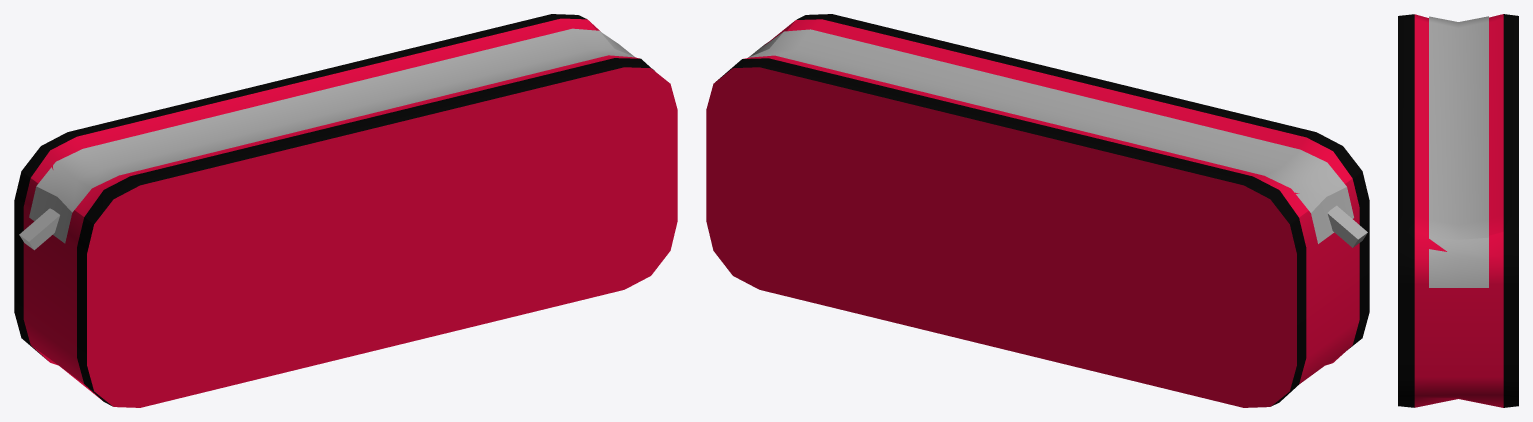
Rendered from fudebako.fbx.
3 views of the same model, side by side, from view 1: azimuth 30°, elevation 25°; view 2: azimuth 150°, elevation 25°; view 3: azimuth 270°, elevation 25° (orthographic). The views are drawn at different scales.
Parts seen in each view (by area): view 1: pCube2, pCube1, pCube3; view 2: pCube2, pCube1, pCube3; view 3: pCube2, pCube1.
Part boxes in pixels (box(x1,y1,x2,y2)): pCube2: box(14, 14, 677, 407); pCube1: box(29, 28, 654, 243); pCube3: box(19, 208, 59, 250); pCube2: box(706, 14, 1369, 407); pCube1: box(748, 29, 1353, 243); pCube3: box(1327, 205, 1367, 247); pCube2: box(1398, 14, 1518, 407); pCube1: box(1429, 16, 1488, 287).
Bounding box in the file's own units: 5.31 × 1.85 × 1.08.
